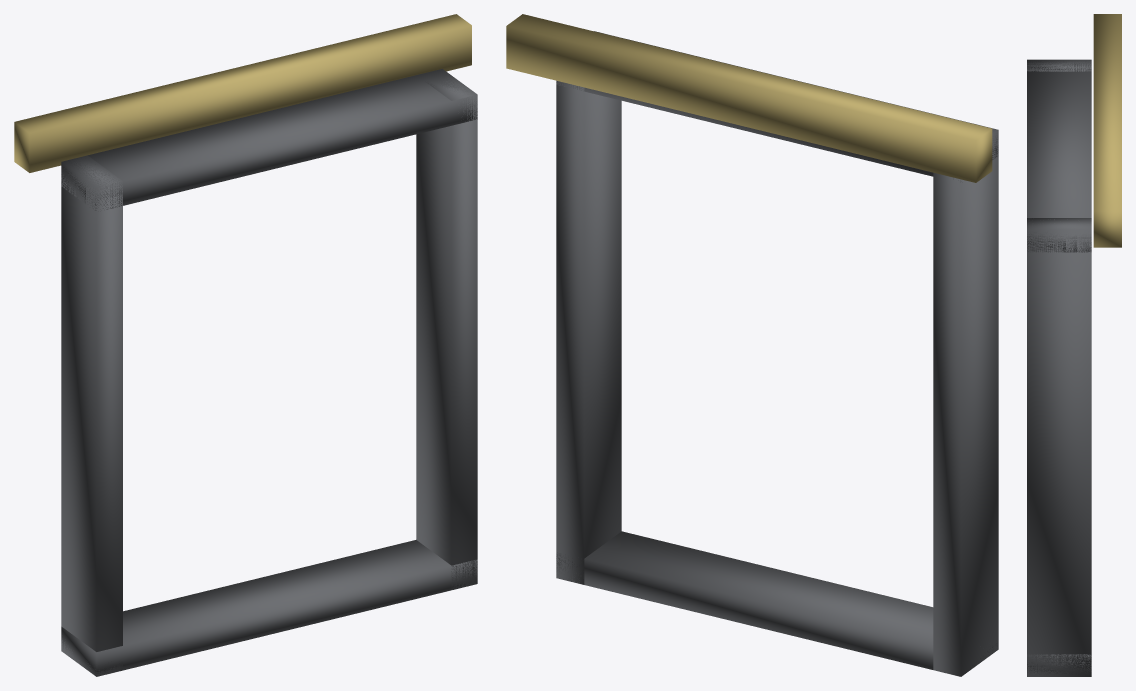
File: egress_window_motel_w86_h110_s72_d16.glb
3 views of the same model, side by side, from view 1: azimuth 30°, elevation 25°; view 2: azimuth 150°, elevation 25°; view 3: azimuth 270°, elevation 25° (orthographic). The views are drawn at different scales.
Parts seen in each view (by area): view 1: world; view 2: world; view 3: world.
Boxes of the visible parts, box(x1,y1,x2,y2) form: world: box(14, 14, 477, 676); world: box(506, 14, 998, 676); world: box(1027, 14, 1121, 676).
Size of the model in its own units: 1.16 by 1.31 by 0.235.
